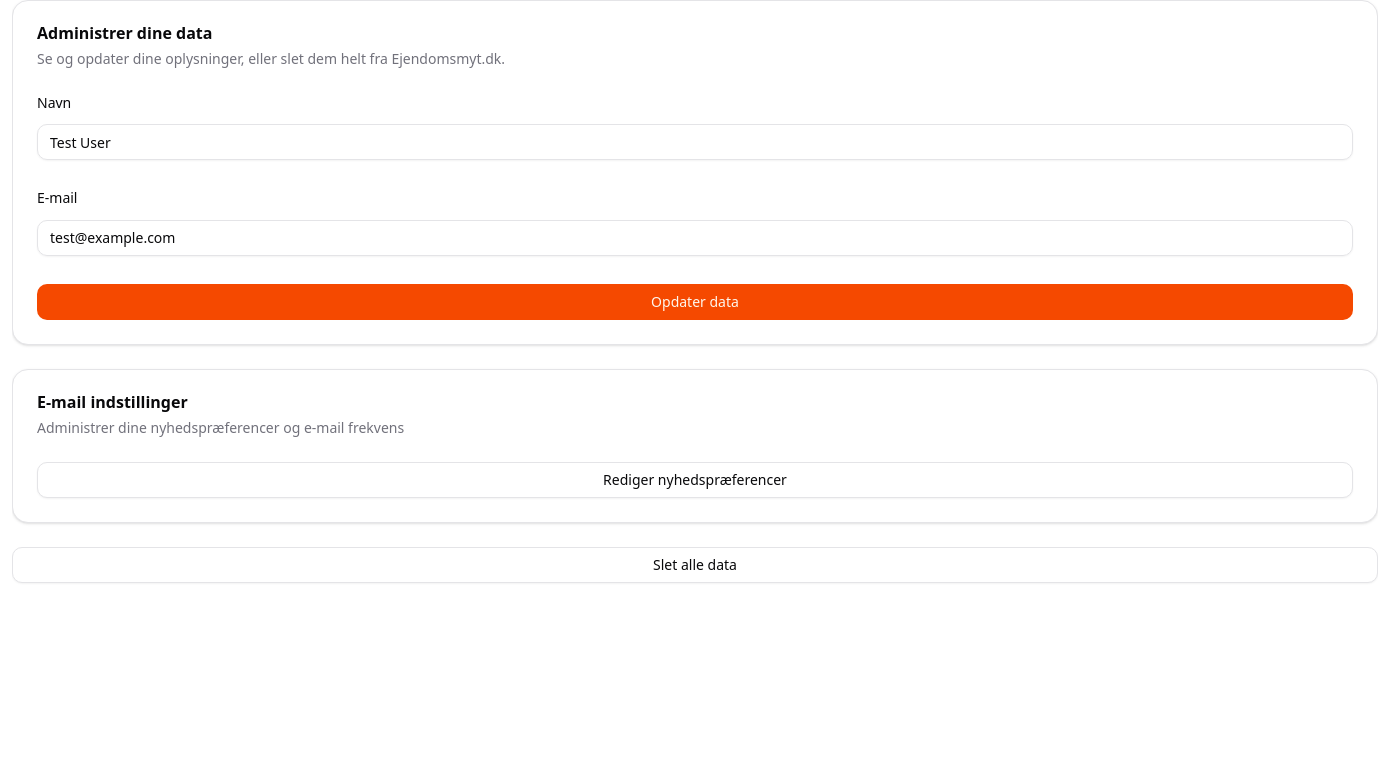
Test: ProfileForm › displays error message on failed update
Click the button "Opdater data" at coordinates (695, 302), box [37,284,1353,320]
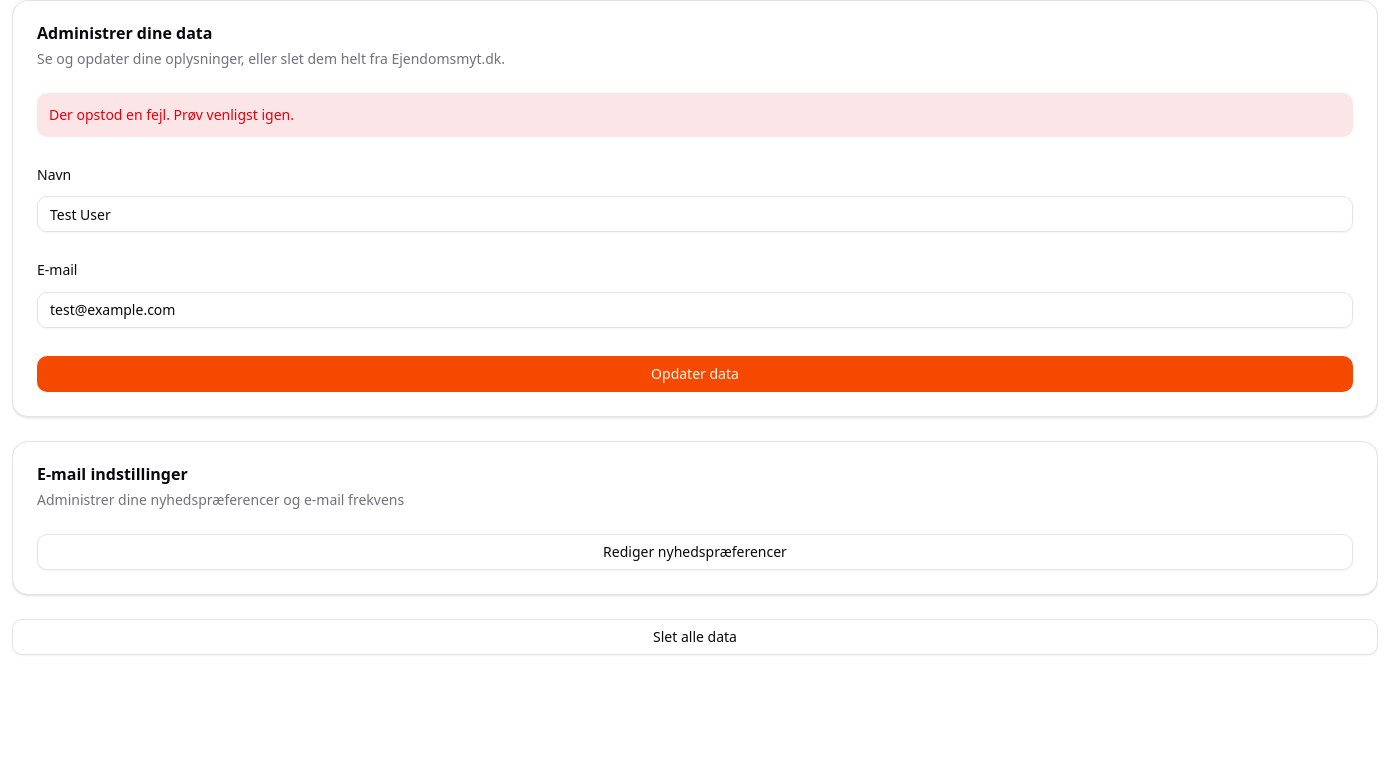
Result: the text "Der opstod en fejl. Prøv venligst igen." is shown at [37,93,1353,137]
